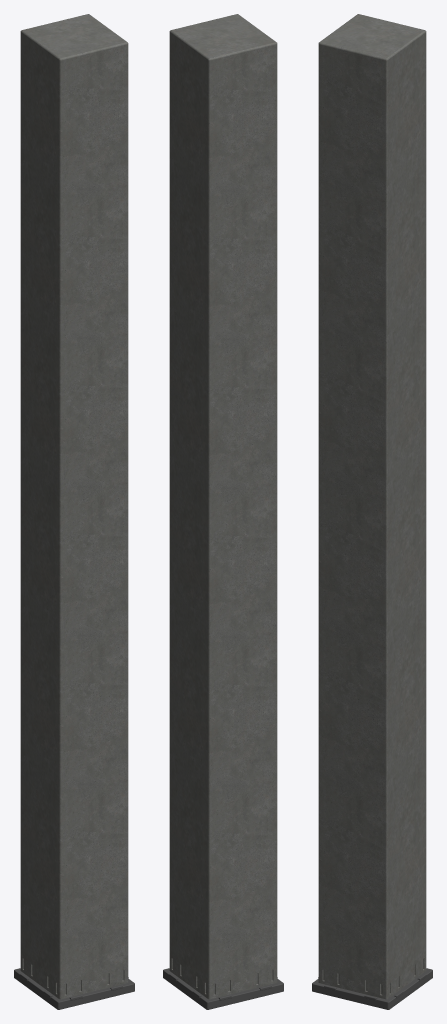
The model's file is structure_wall_column_a01.glb.
The picture shows the model from 3 angles, left to right: view 1: azimuth 30°, elevation 25°; view 2: azimuth 210°, elevation 25°; view 3: azimuth 330°, elevation 25°; orthographic projection.
Parts seen in each view (by area): view 1: body_01_mesh_00; view 2: body_01_mesh_00; view 3: body_01_mesh_00.
Part boxes in pixels (left/top/right/bottom): body_01_mesh_00: left=14, top=14, right=134, bottom=1009; body_01_mesh_00: left=163, top=14, right=283, bottom=1009; body_01_mesh_00: left=312, top=14, right=432, bottom=1009.
Size of the model in its own units: 0.7366 by 8.5 by 0.7366.
Materials: 2 (1 with a texture image).
